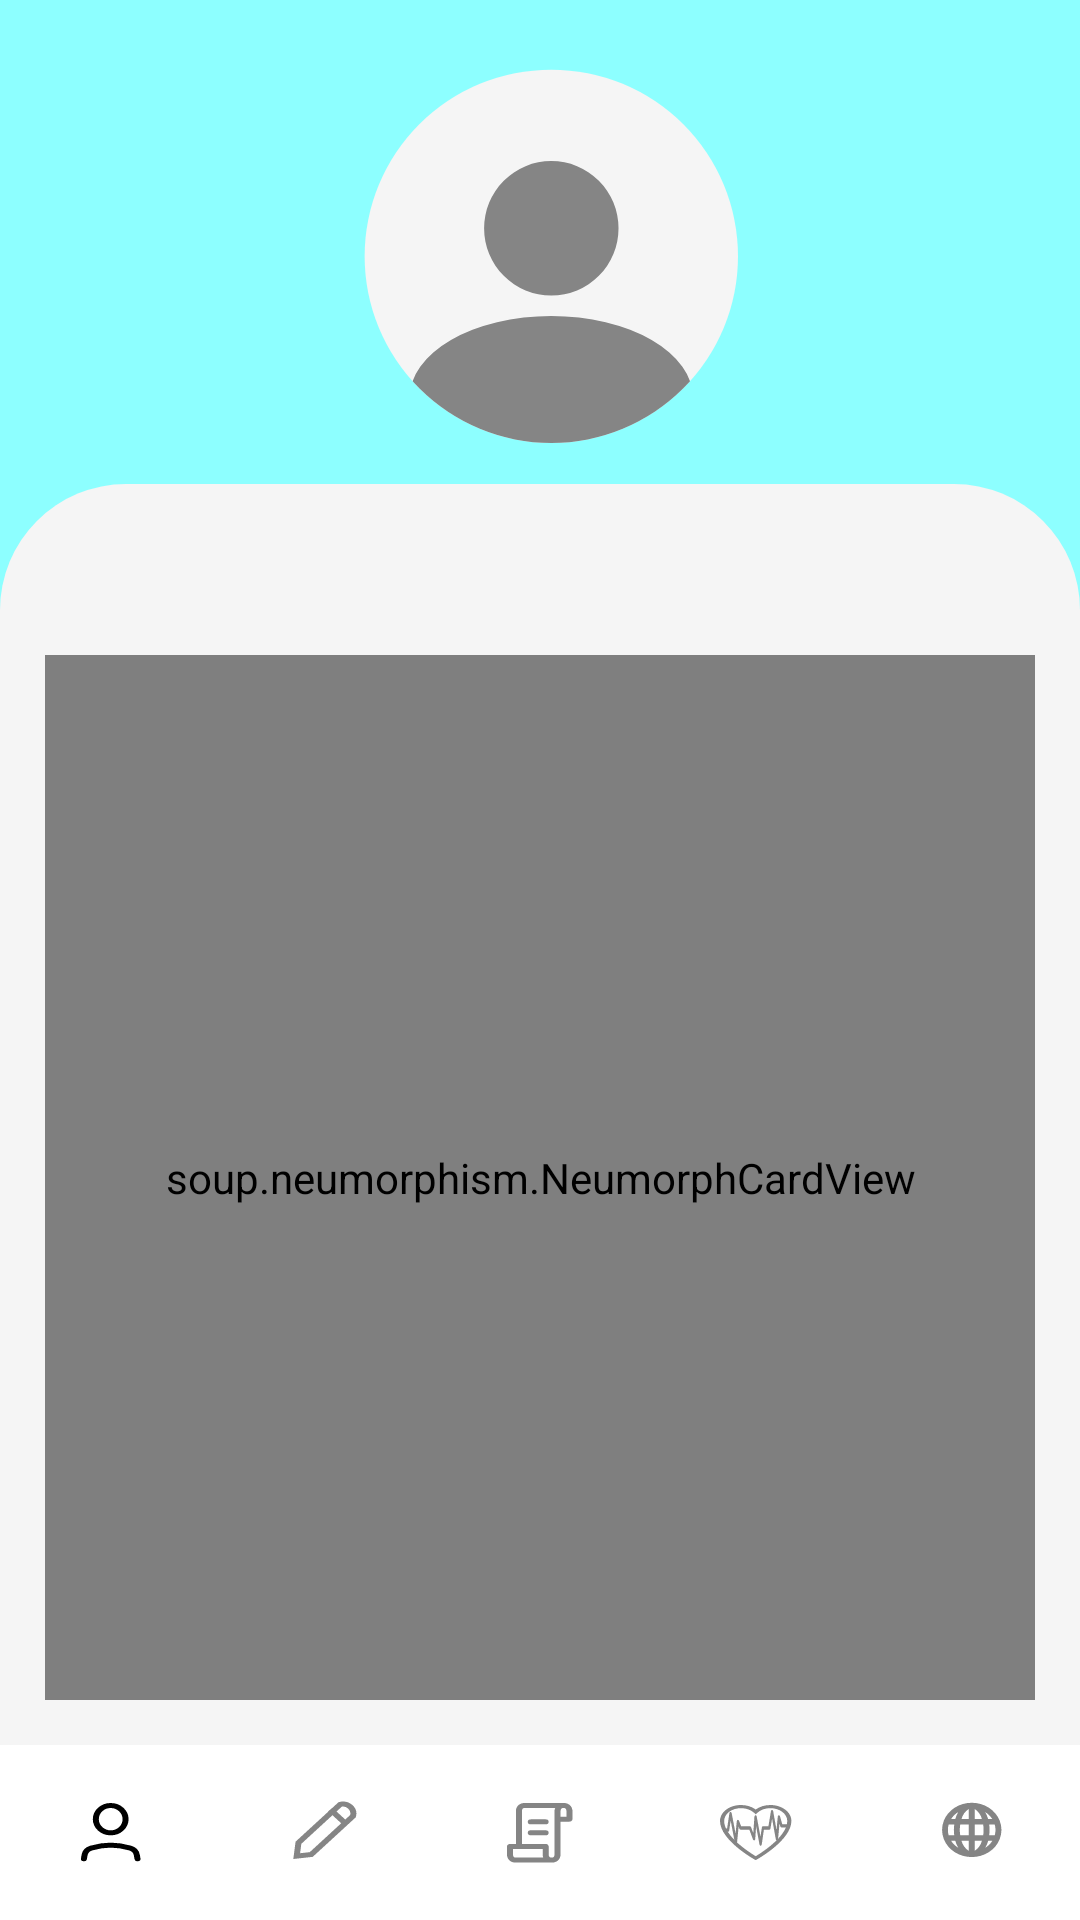

Where to tap for icons on this 1080*1920 app screen, as point (x, y):
edit: point (325, 1830)
heart: point (756, 1832)
profile: point (111, 1832)
scroll: point (540, 1833)
